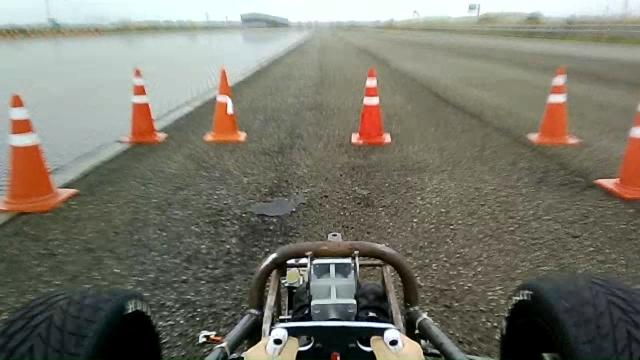red cone: (0, 92, 80, 214), (526, 65, 583, 147), (593, 102, 639, 201), (117, 66, 168, 144), (202, 65, 248, 143), (350, 66, 392, 146)
